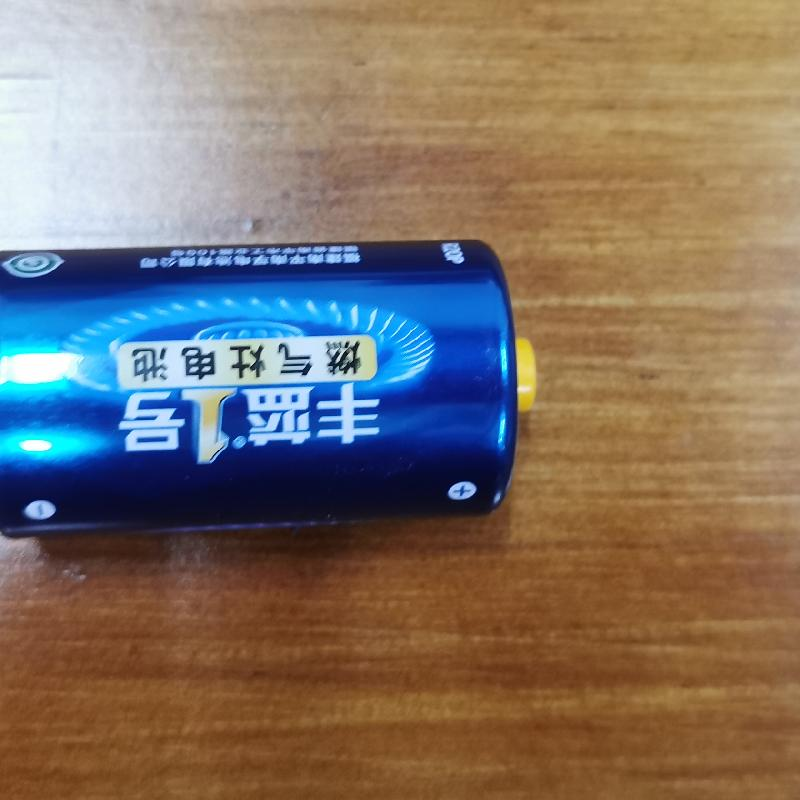battery: (3, 237, 540, 545)
